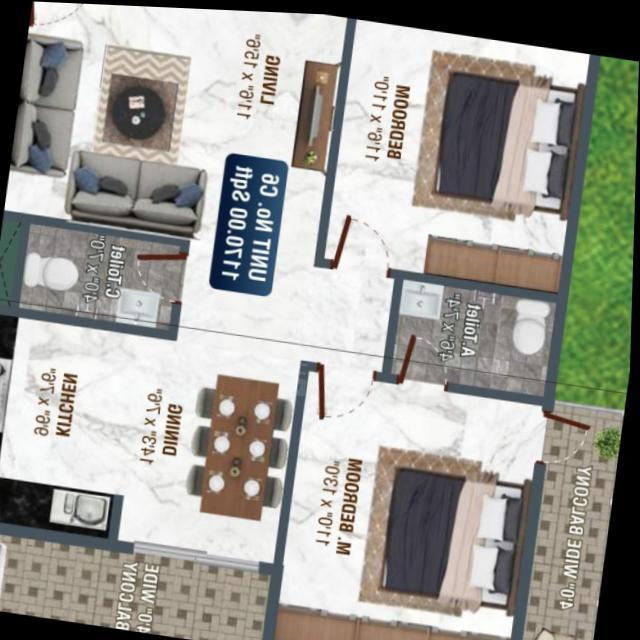Balcony-Sitout: (0, 524, 283, 640), (521, 390, 627, 640)
Bedroom: (321, 14, 600, 292)
Bedroom with Toilet: (275, 268, 567, 640)
Enterance-Foyer: (28, 1, 96, 40)
Kitchen: (0, 305, 147, 538)
Living: (5, 1, 355, 252), (183, 365, 299, 522)
Toilet: (385, 274, 566, 395), (21, 216, 192, 331)
